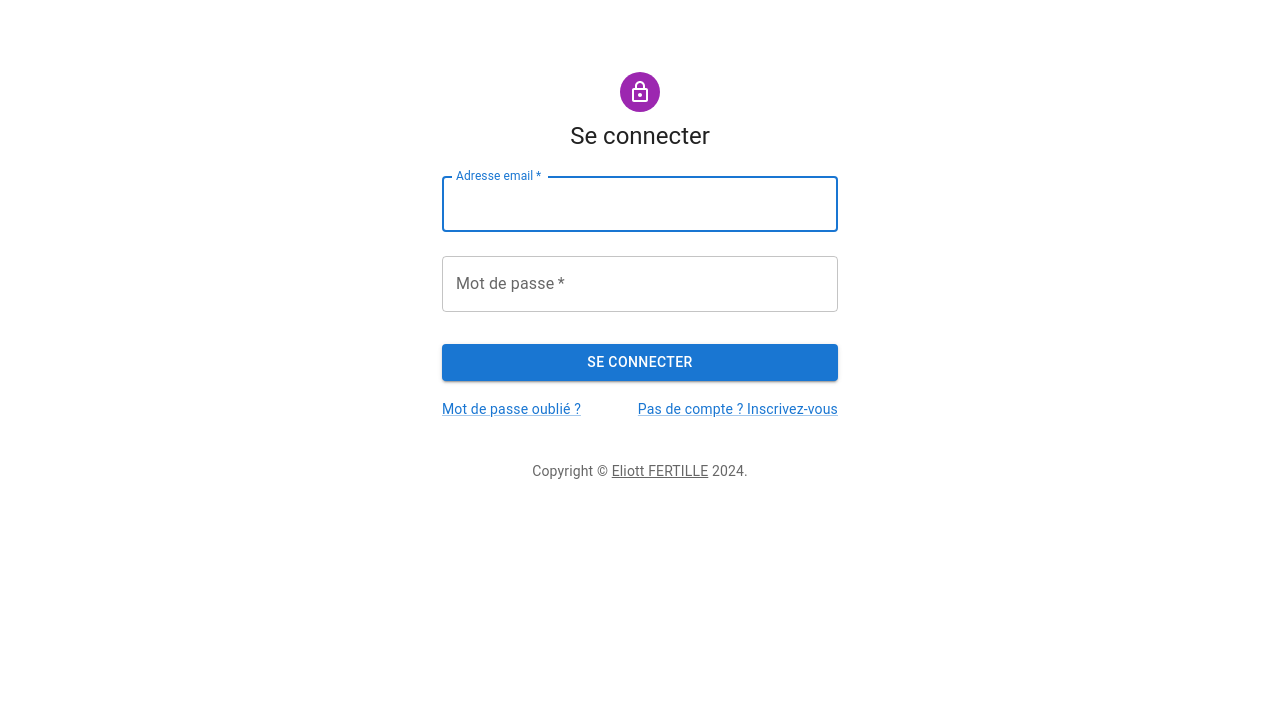
Scenario: Session Creation › should open the session creation modal
In the field named "email": (640, 204) [442,176,838,232], type "user1@gmail.com"
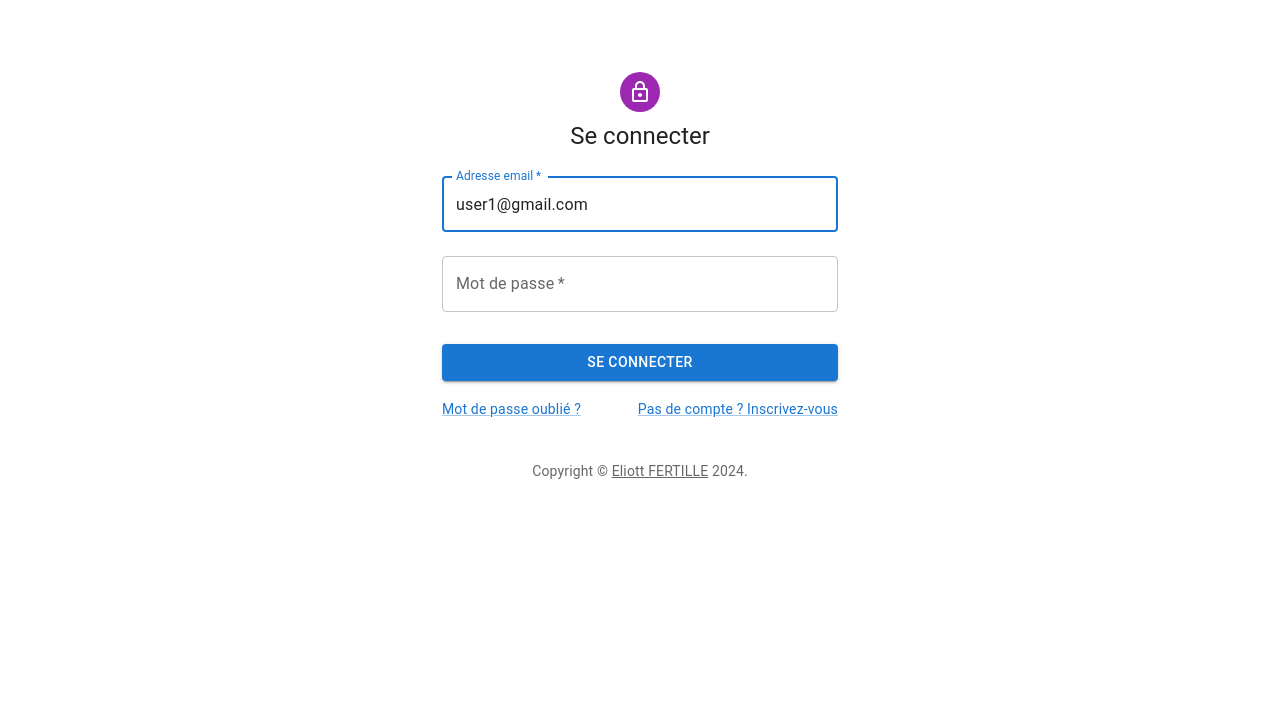
In the password field named "password": (640, 284) [442,256,838,312], type "123456789"
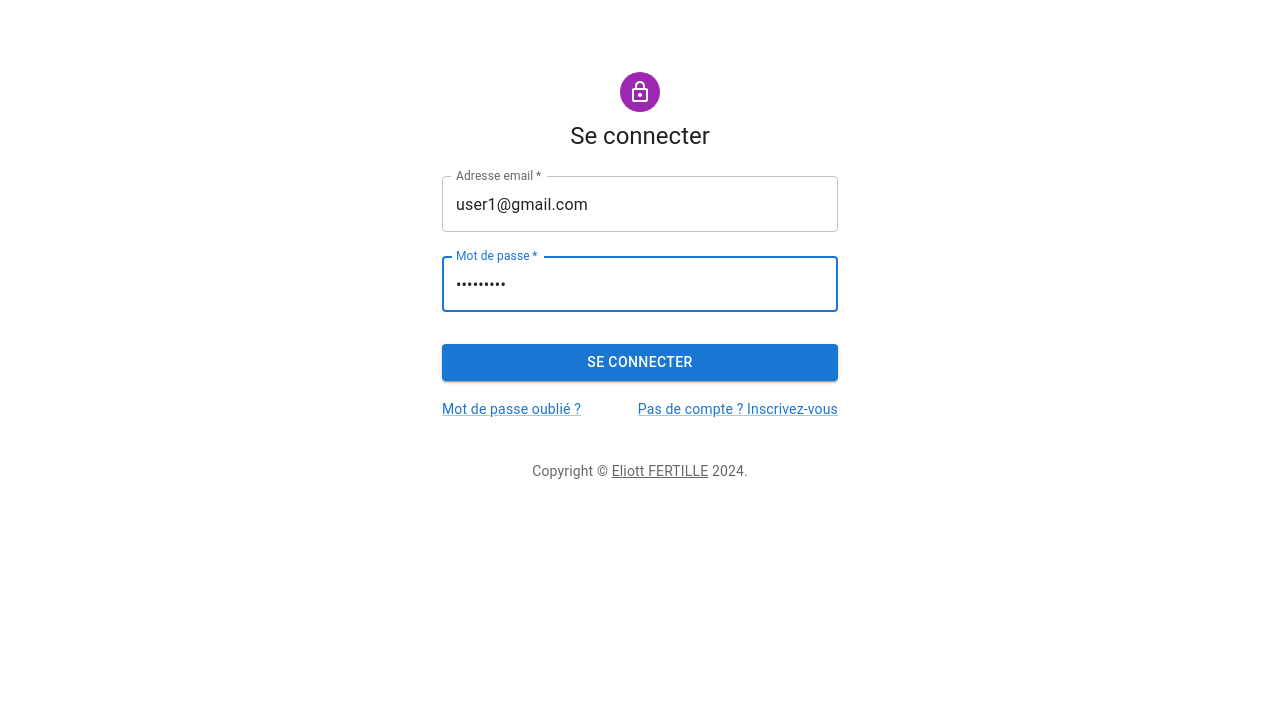
Click the submit button: click(640, 363) [442,344,838,381]
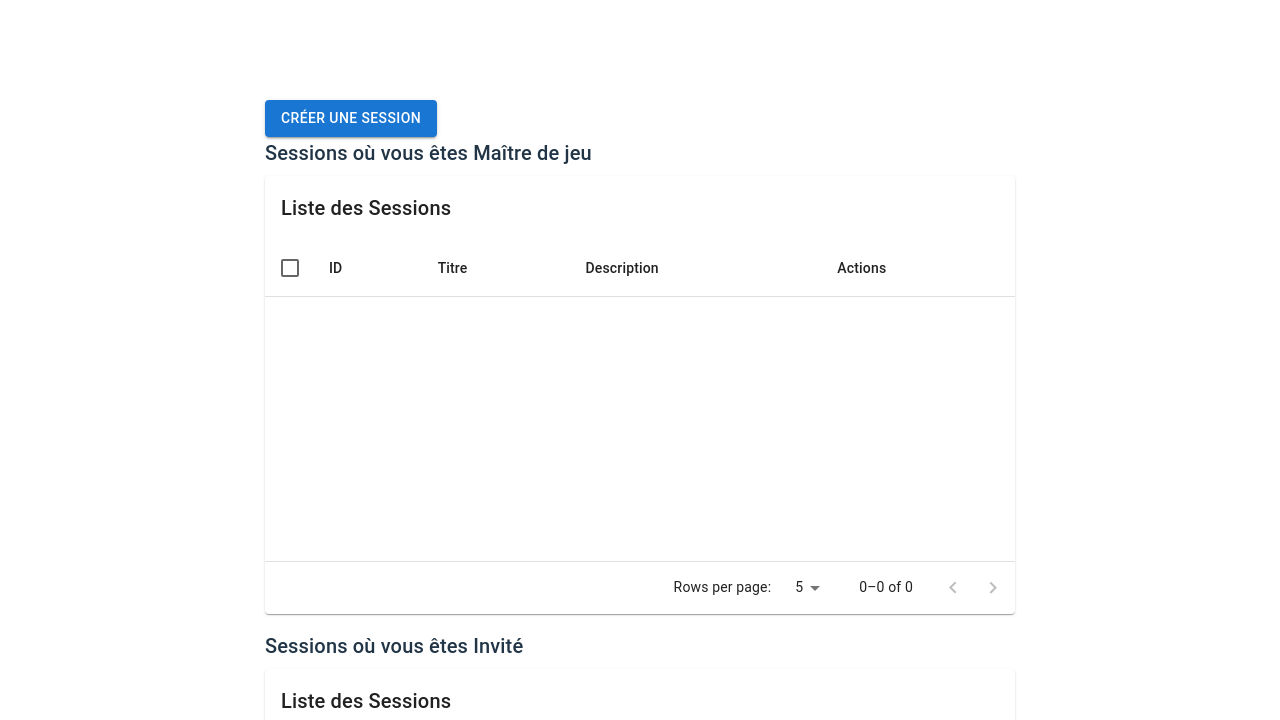
Click the button "Créer une session": click(351, 119) [265,100,437,137]
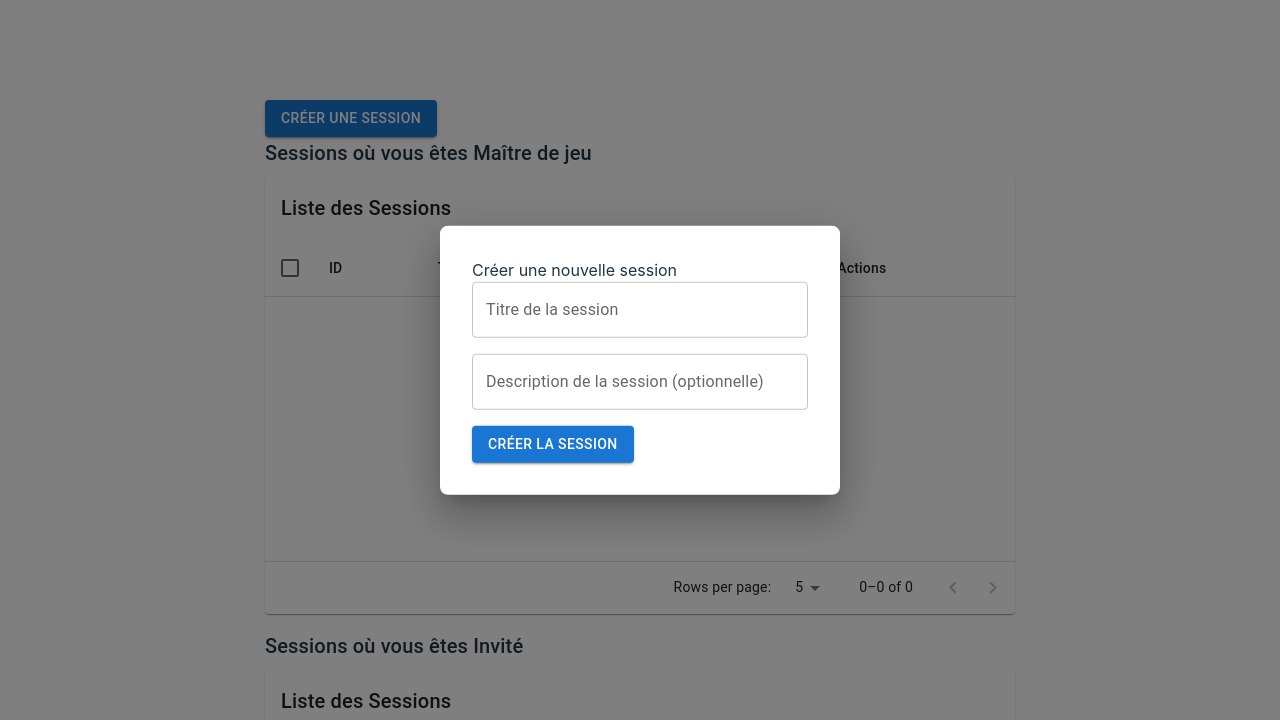
Result: the heading "Créer une nouvelle session" is shown at [472,260,677,280]
Result: the field with test id "session-title-input" is shown at [472,282,808,338]
Result: the field with test id "session-description-input" is shown at [472,354,808,410]
